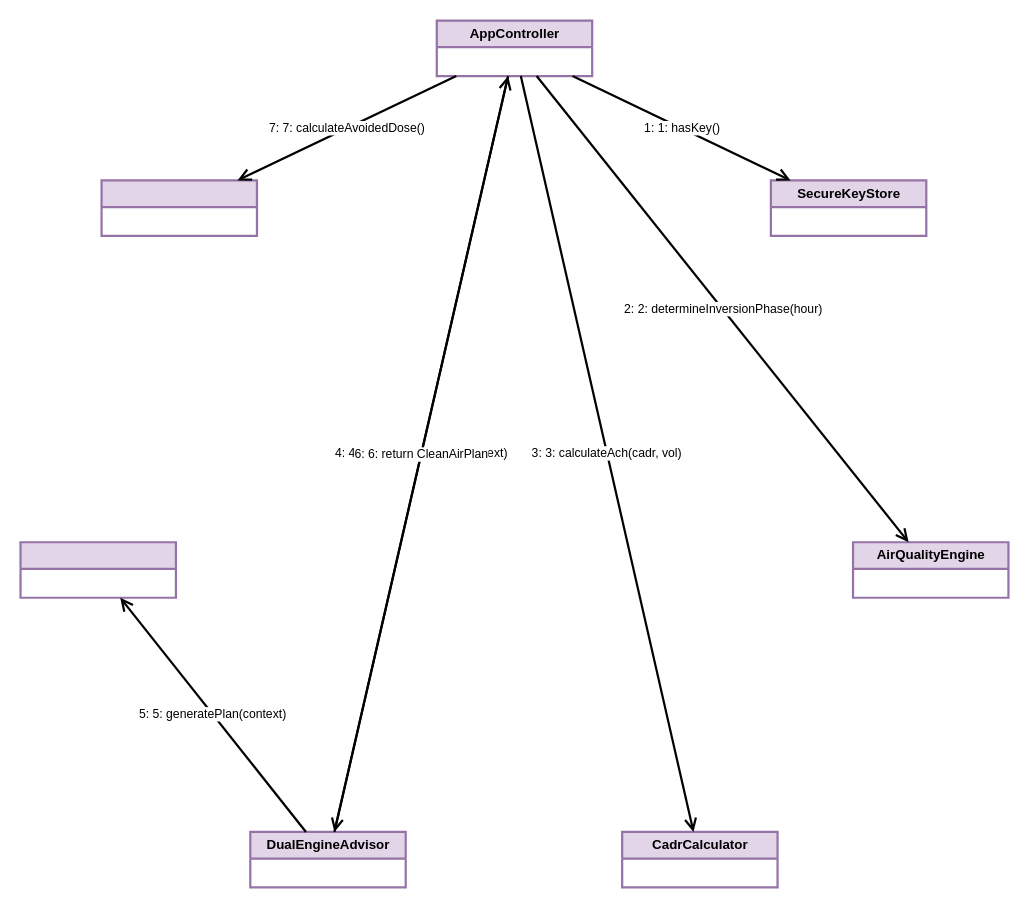
The diagram is 1028 pixels wide and 907 high, and some of its shapes have lost their labels. The centre of each missing label's shape, as x and y in pixels:
"GeminiGateway" belongs at pixel 97 569.
"ImpactCalculator" belongs at pixel 179 207.
